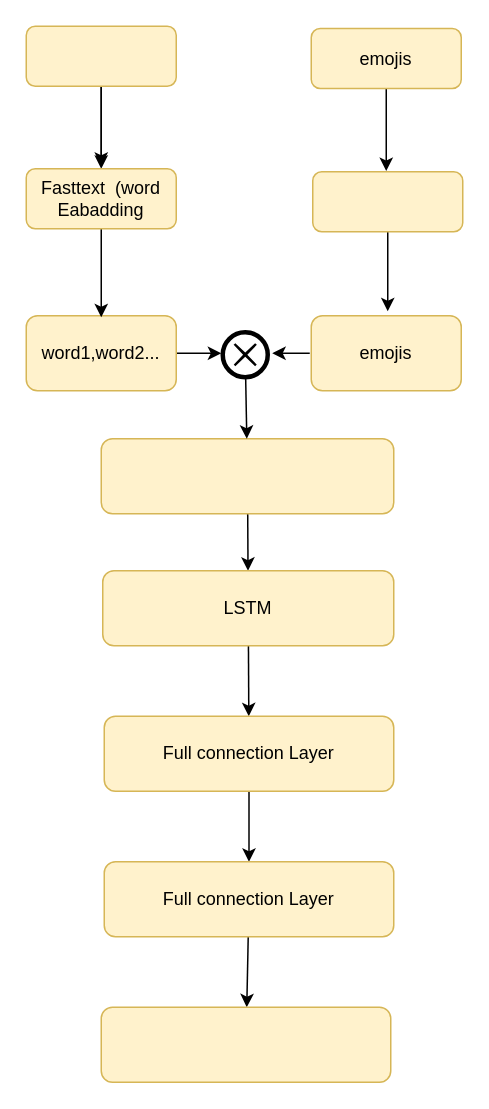
Image size: 489x1109. Some labels were removed from this diagram. The centre of each missing label's shape, as x and y in pixels:
"CNN" belongs at pixel 247 475.
"Fasttext (word Eabadding)" belongs at pixel 387 201.
"Output" belongs at pixel 245 1044.
"word1,word2," belongs at pixel 100 55.
